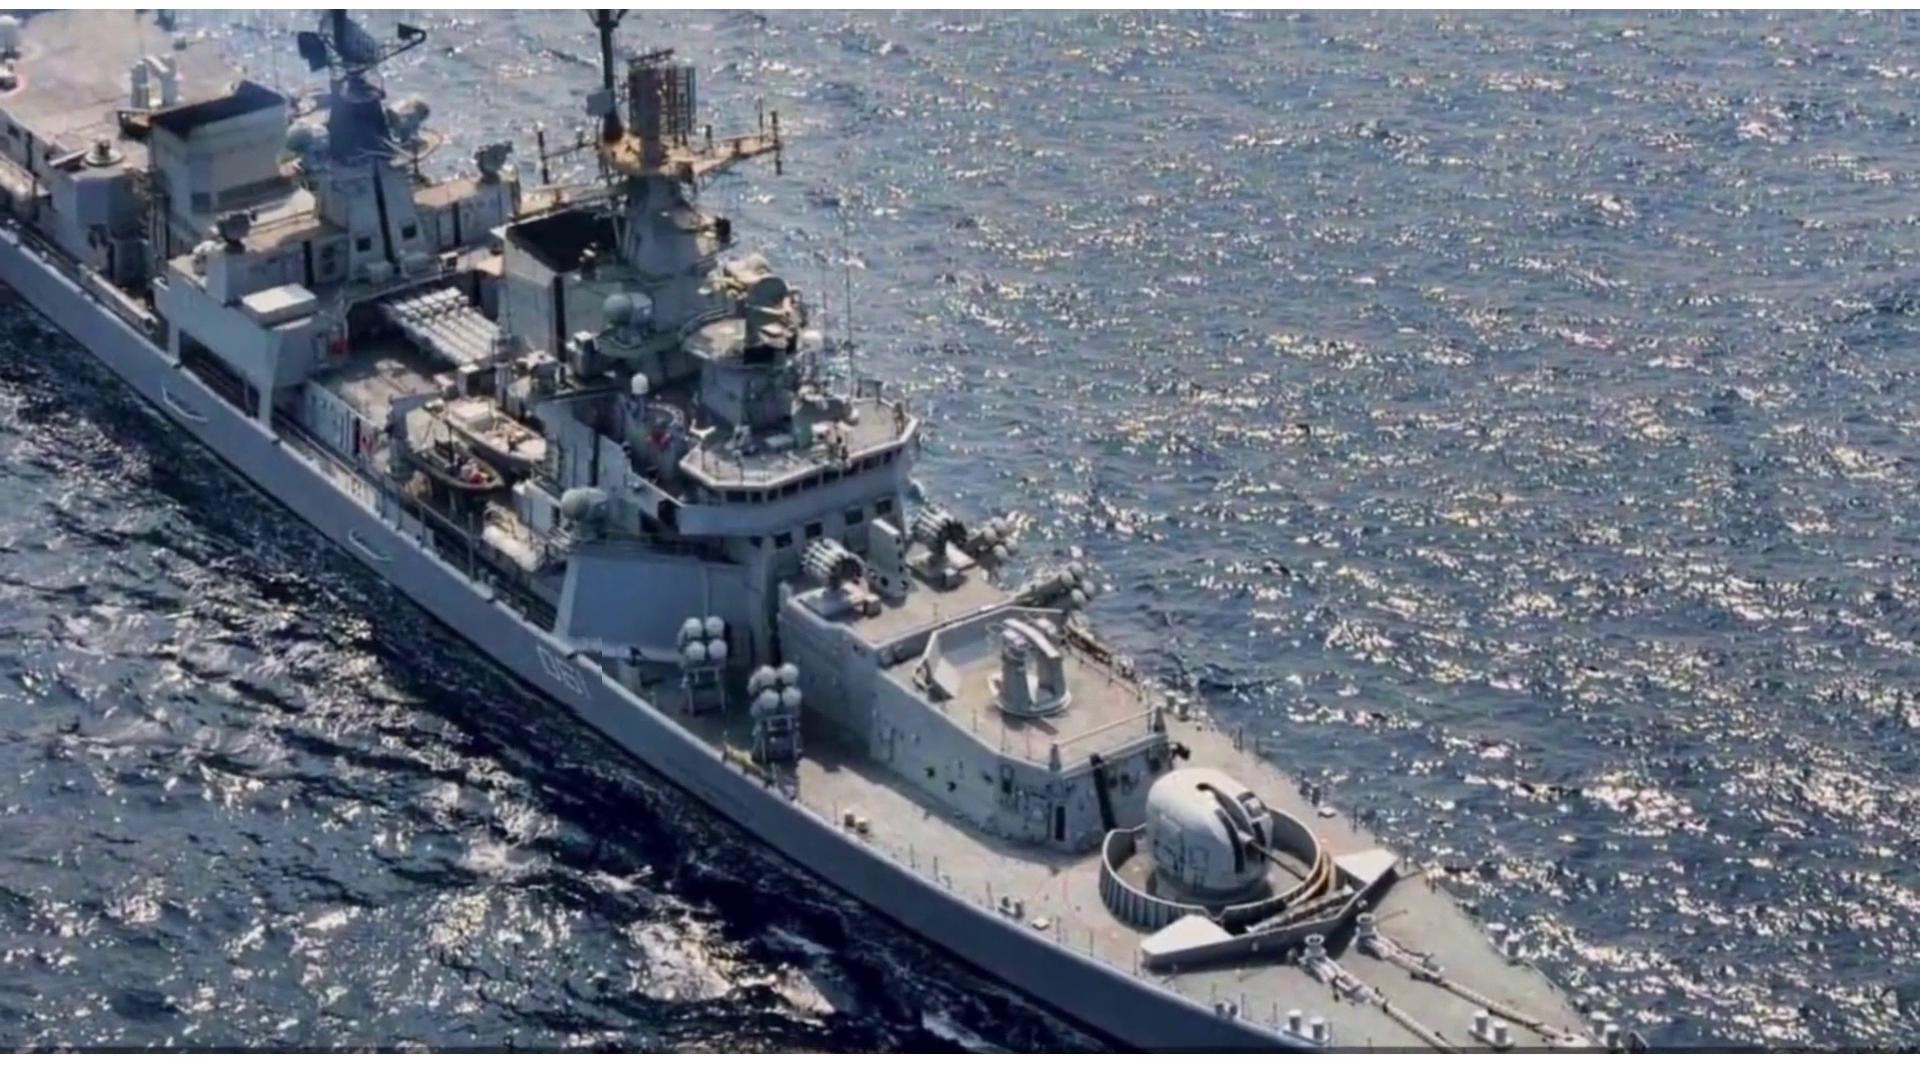OCR: (522, 636, 602, 716)
